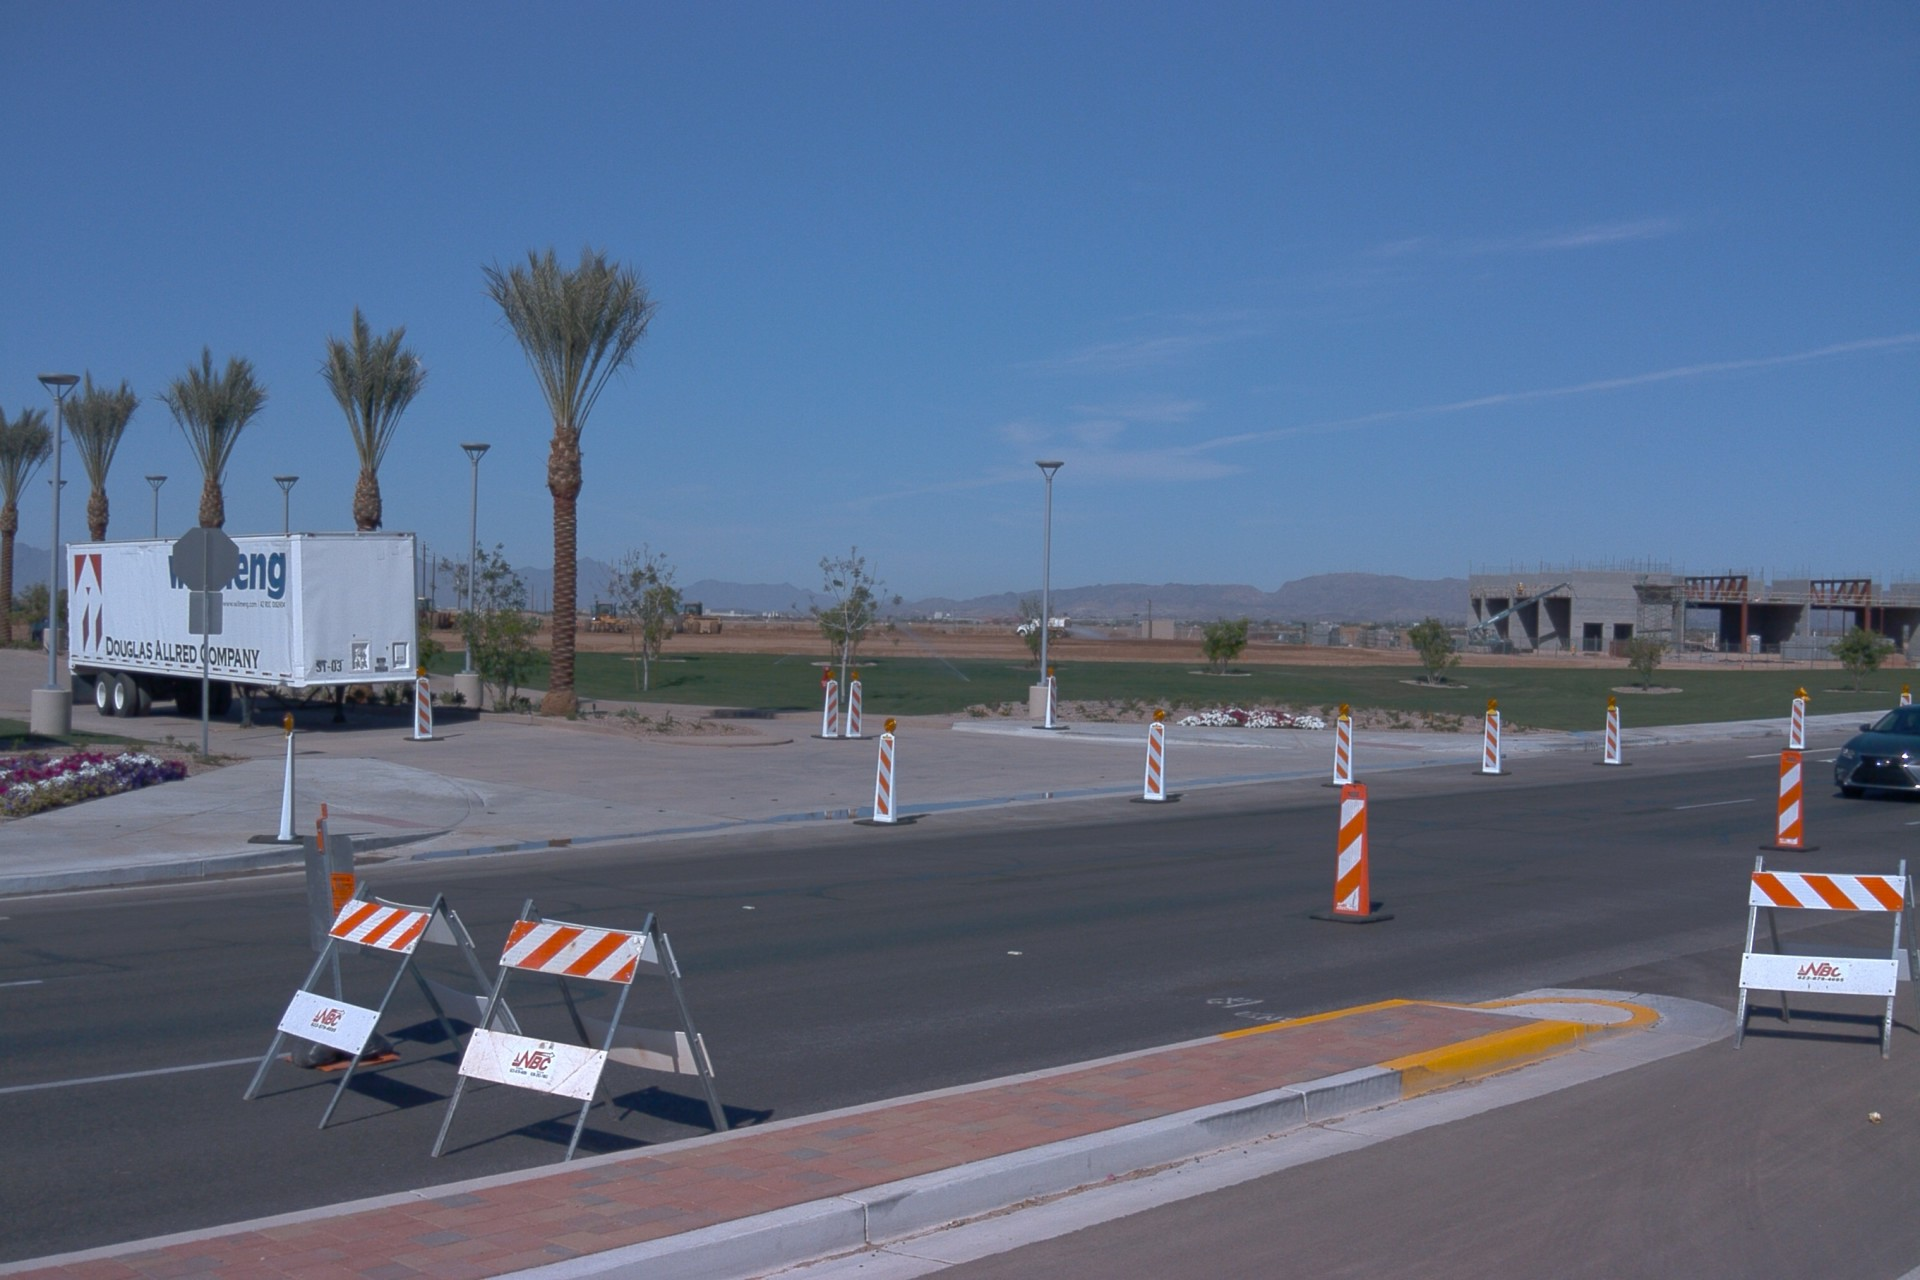TYPE_PEDESTRIAN: (573, 611, 586, 633)
TYPE_VEHICLE: (66, 530, 426, 725), (1832, 704, 1920, 800), (1467, 583, 1574, 646), (28, 612, 72, 653), (417, 595, 463, 631), (1013, 618, 1071, 639)
